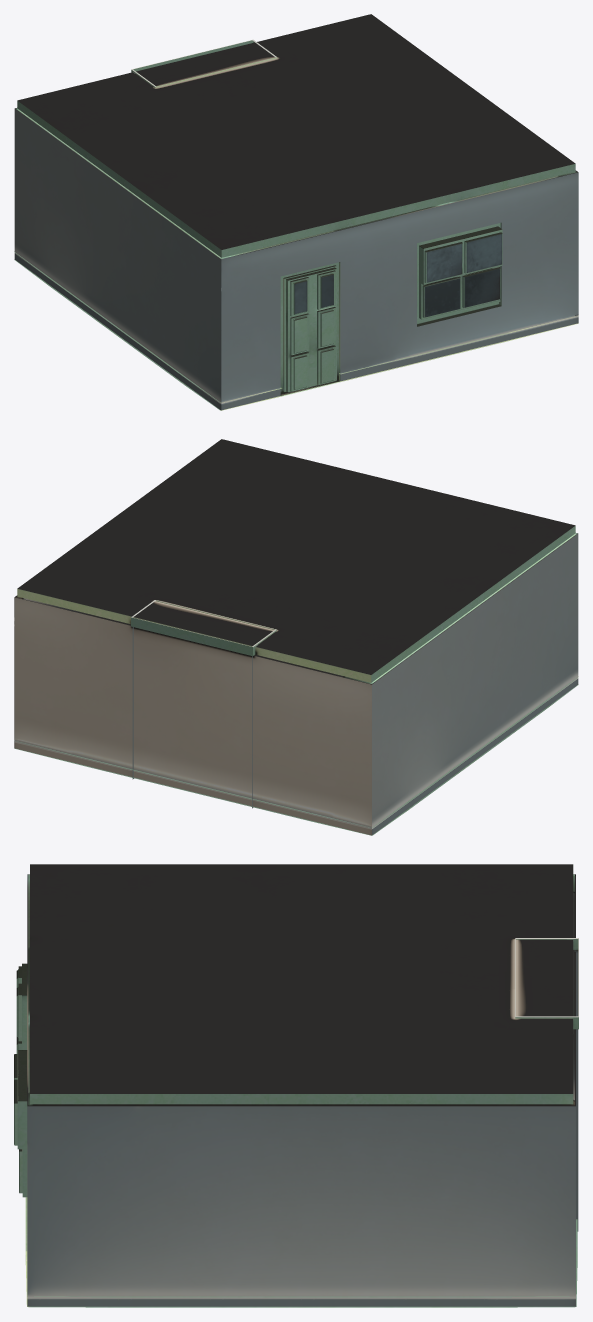
The picture shows the model from 3 angles, top to bottom: view 1: azimuth 30°, elevation 25°; view 2: azimuth 150°, elevation 25°; view 3: azimuth 270°, elevation 25°; orthographic projection. The views are drawn at different scales.
Visible parts, largest first — view 1: Cube.002; view 2: Cube.002; view 3: Cube.002.
Part boxes in pixels (x1=…): Cube.002: x1=14, y1=14, x2=578, y2=410; Cube.002: x1=14, y1=439, x2=578, y2=835; Cube.002: x1=14, y1=864, x2=578, y2=1307.
Size of the model in its own units: 1006 by 433 by 1030.
1 material, 1 textured.
